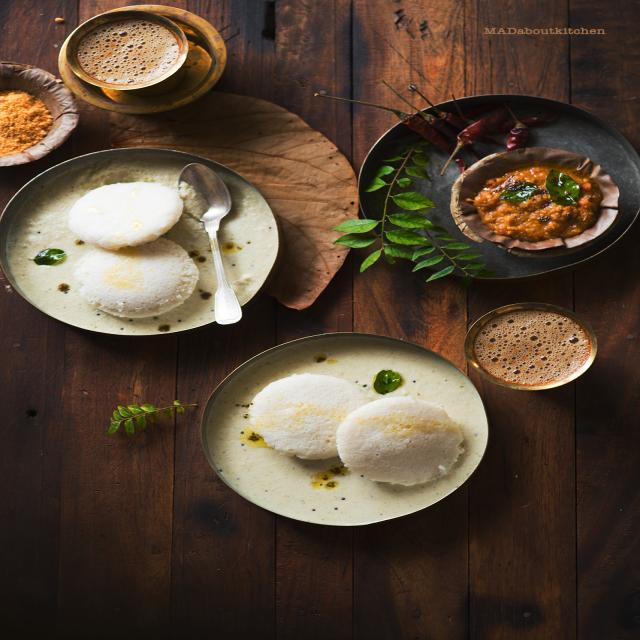IDLI: (247, 373, 371, 460), (337, 397, 460, 484), (75, 236, 198, 318), (70, 182, 183, 246)
